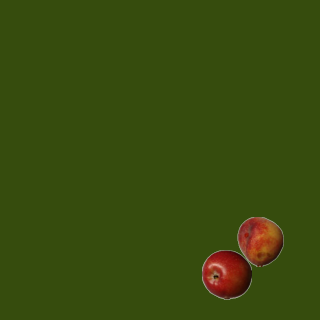Apple Braeburn: (201, 249, 251, 299)
Peach: (235, 216, 285, 266)
